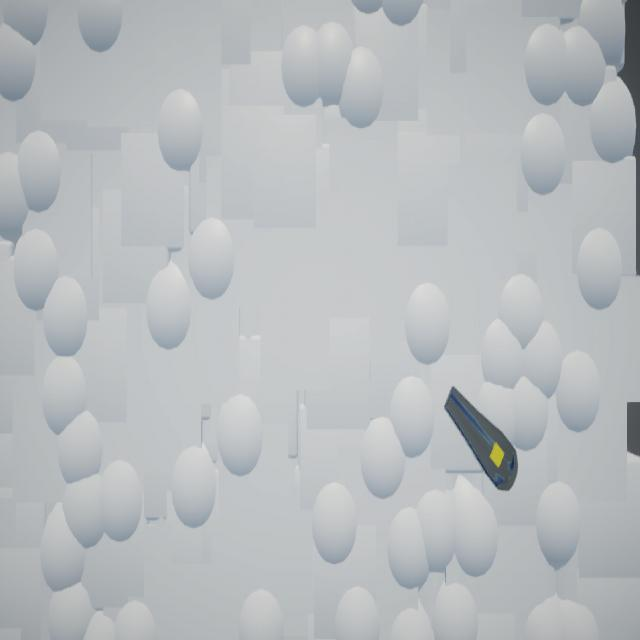handle_knife: (445, 386, 520, 493)
